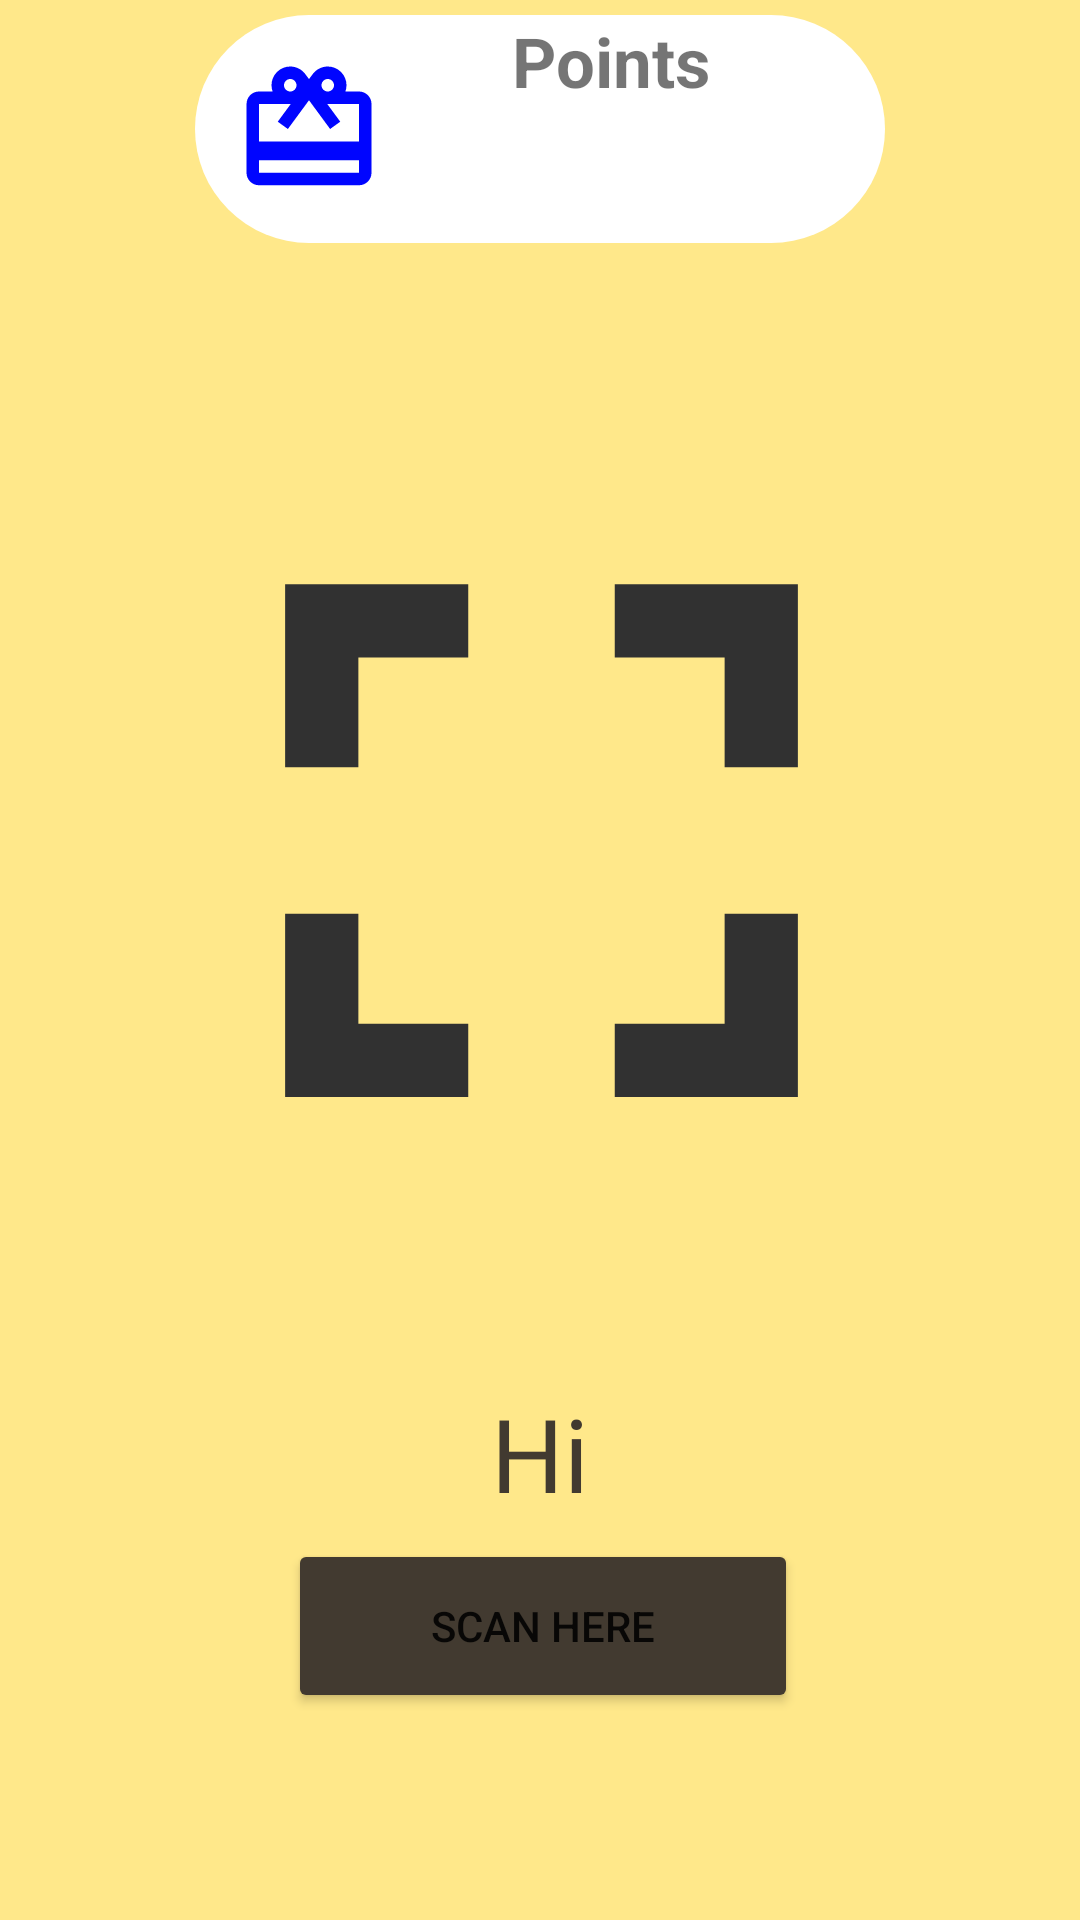

Point at icon controls on the screen. Image size 1080 × 1920, points as (x,y).
giftcard: (309,129)
